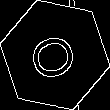O_E: (25, 26, 85, 84)
